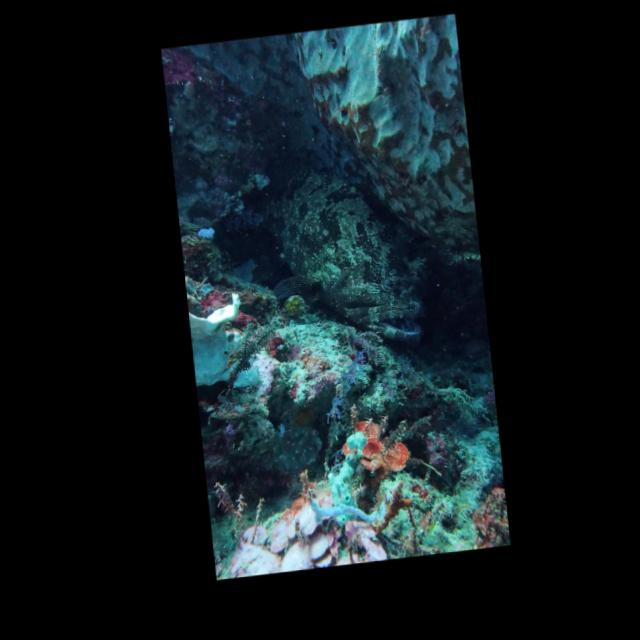Groupers: (217, 138, 437, 365)
